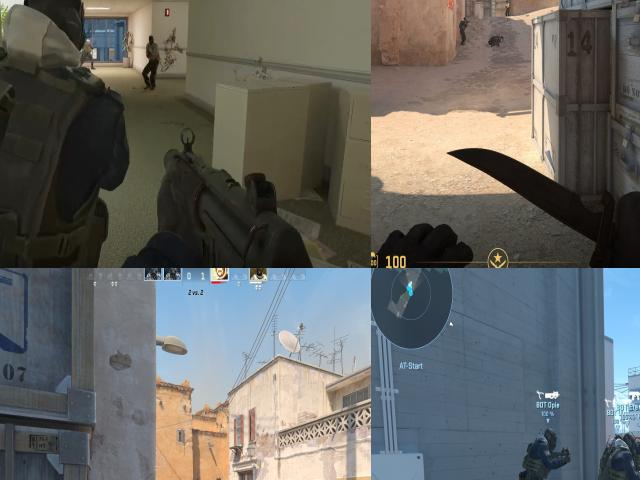CT: (0, 54, 139, 268), (596, 435, 638, 480), (523, 426, 558, 480), (597, 433, 622, 480), (631, 430, 640, 480), (460, 16, 468, 46)
CT-Head: (0, 0, 90, 85), (542, 428, 556, 446), (625, 434, 636, 446), (614, 434, 623, 442), (463, 17, 467, 23)
Dead: (489, 34, 504, 46)
T: (143, 29, 163, 68), (505, 0, 510, 16)
T-Head: (143, 31, 159, 48), (506, 0, 508, 4)
